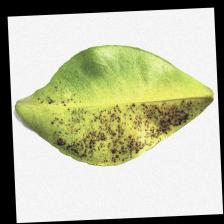canker: (57, 108, 188, 159)
